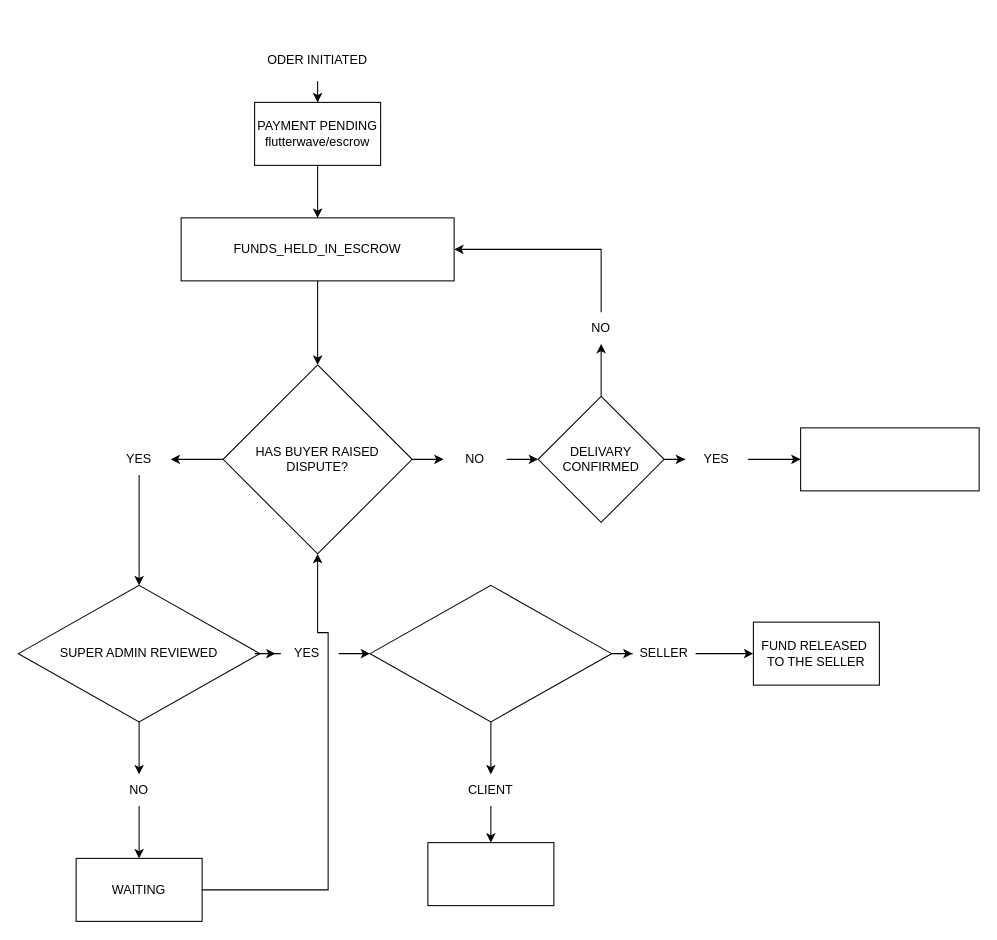
This 997x940 diagram has some shape labels left out. Here are the shapes that lost their labels. From the top down, the box of each, then its label:
(800, 427, 979, 491): PAYMENT CONFIRMED SELLER PAID OUT
(369, 584, 612, 722): WHO WAS FAVOURED?
(427, 842, 554, 906): MONEY REFUNDED
